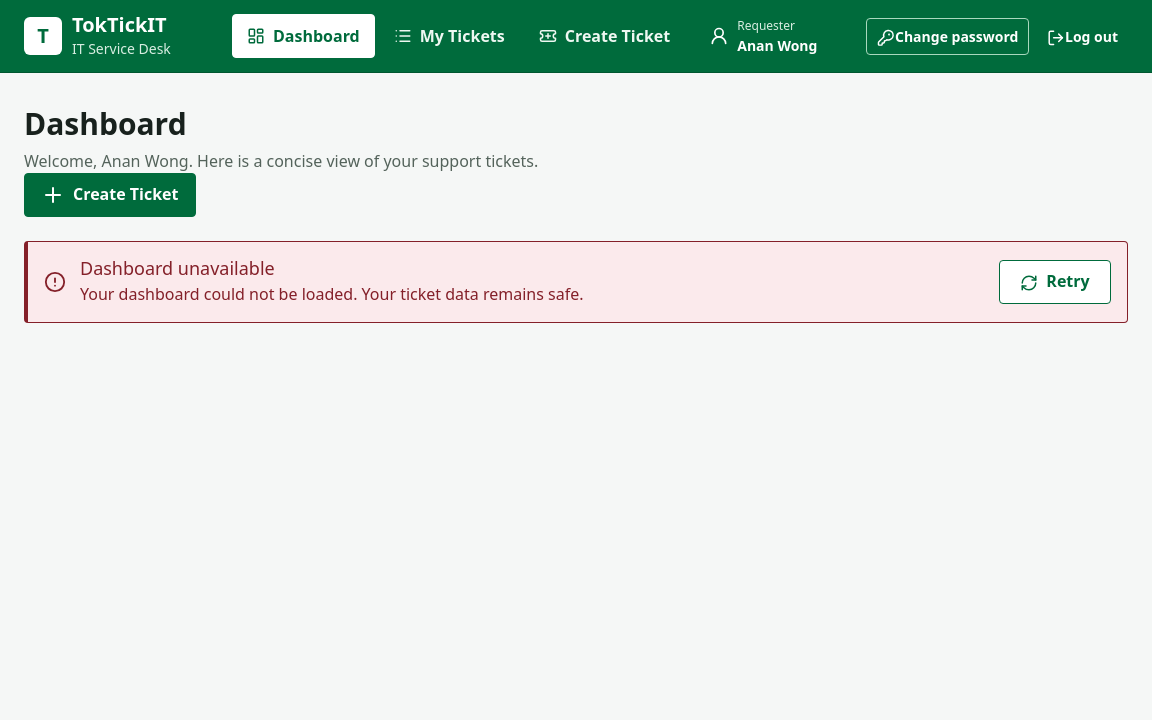
Issue 59 Requester Dashboard › shows a safe retryable failure and recovers without losing the route
The width and height of the screenshot is (1152, 720).
Expected: the message shows "Dashboard unavailable", [80,256,275,280]
Step 1. Click the button "Retry" → (1055, 282), box [999,260,1111,304]
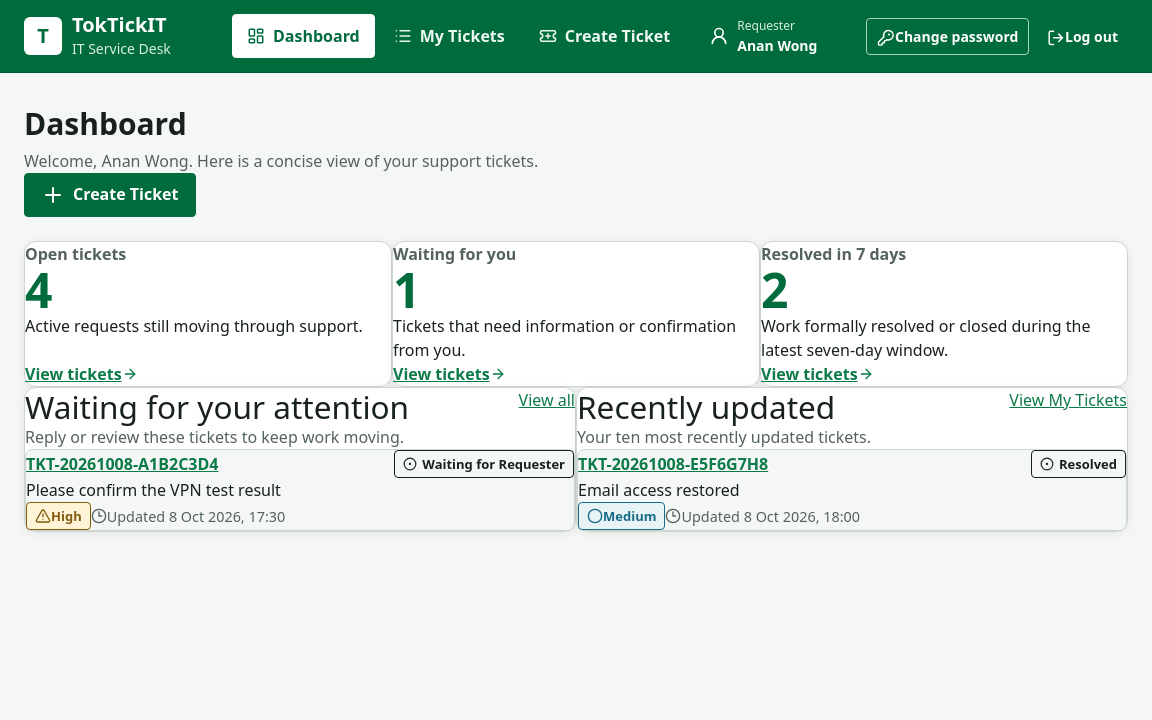
Expected: the text named "Open tickets: 4" is shown, [25,266,52,314]
